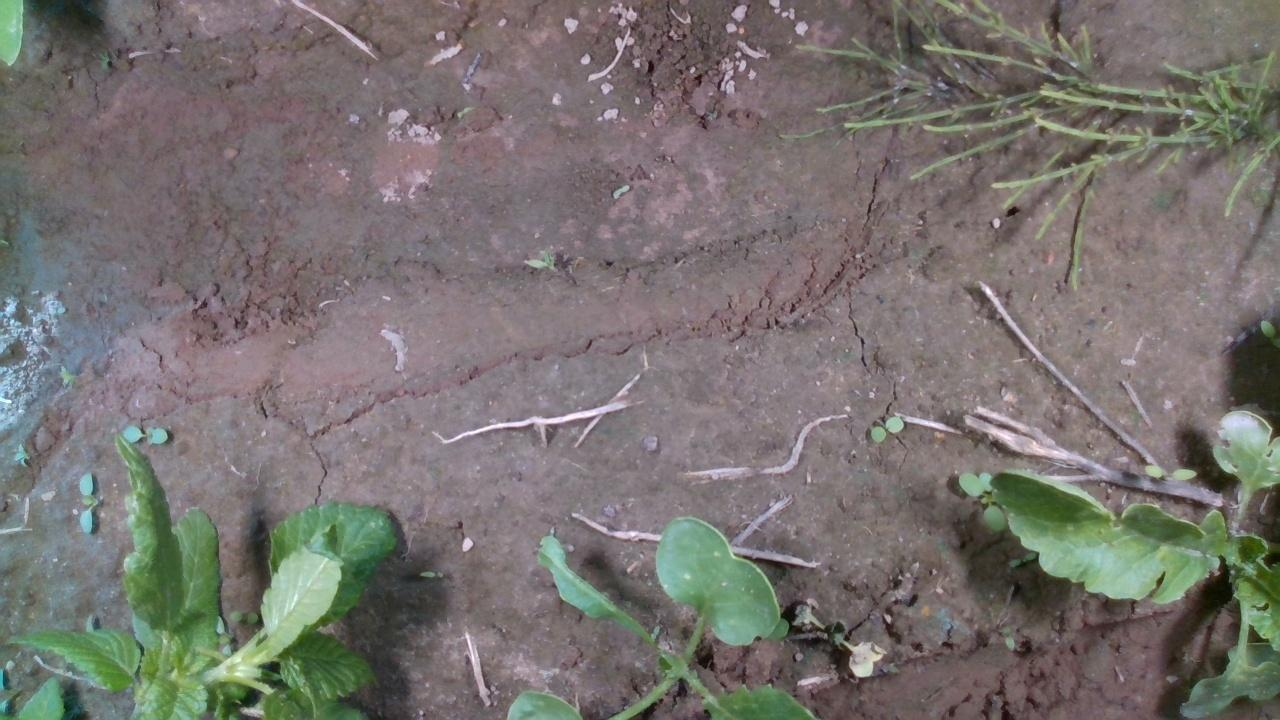weed: (868, 414, 904, 443), (1142, 463, 1198, 481)
